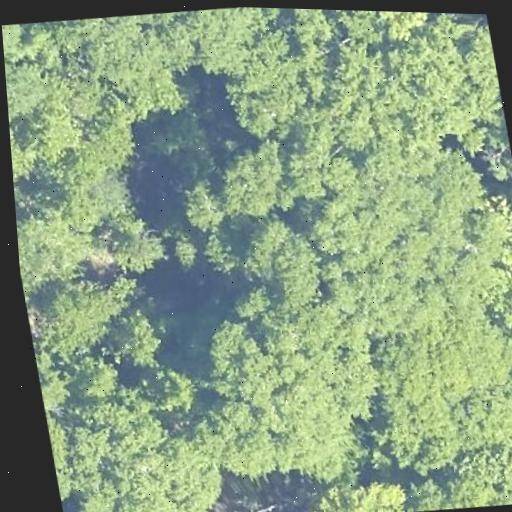tree-top: (301, 141, 512, 348), (193, 301, 391, 496), (359, 313, 512, 466), (60, 392, 236, 512), (318, 39, 480, 165), (79, 13, 205, 126), (31, 92, 131, 194), (214, 52, 321, 147), (230, 212, 327, 316), (31, 270, 136, 356), (205, 138, 297, 229), (390, 448, 512, 512), (178, 5, 270, 82), (111, 316, 187, 407), (189, 310, 272, 393), (289, 465, 417, 512), (15, 208, 85, 284), (104, 209, 174, 282), (102, 304, 170, 377), (336, 10, 461, 48), (168, 170, 231, 239), (455, 15, 502, 106), (57, 348, 127, 407), (140, 358, 204, 422), (43, 399, 85, 496), (279, 8, 348, 61), (492, 250, 512, 424), (4, 58, 56, 119), (394, 472, 463, 512), (161, 220, 205, 271), (8, 113, 33, 185), (2, 24, 24, 69)
